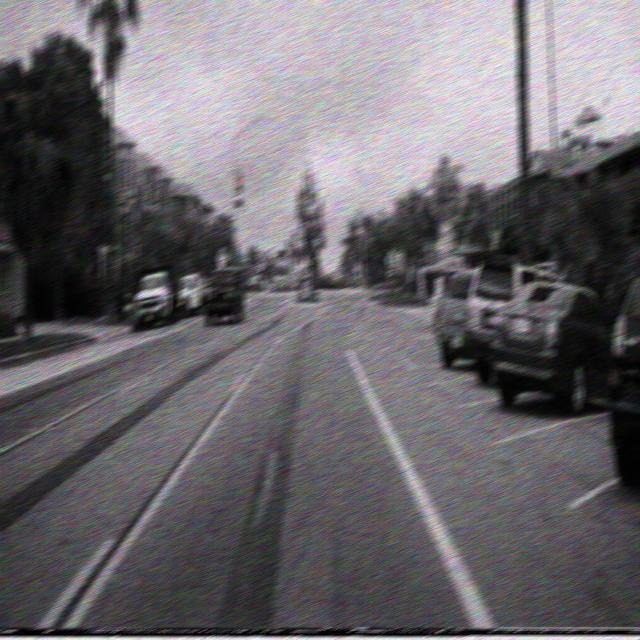pedestrianCrossing: (384, 246, 398, 270)
